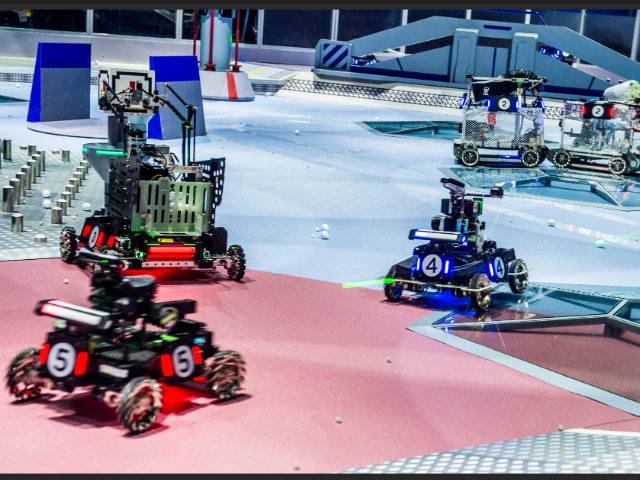rm: (10, 276, 244, 440), (57, 138, 249, 288), (381, 191, 529, 317), (458, 70, 549, 170), (557, 96, 638, 176)
